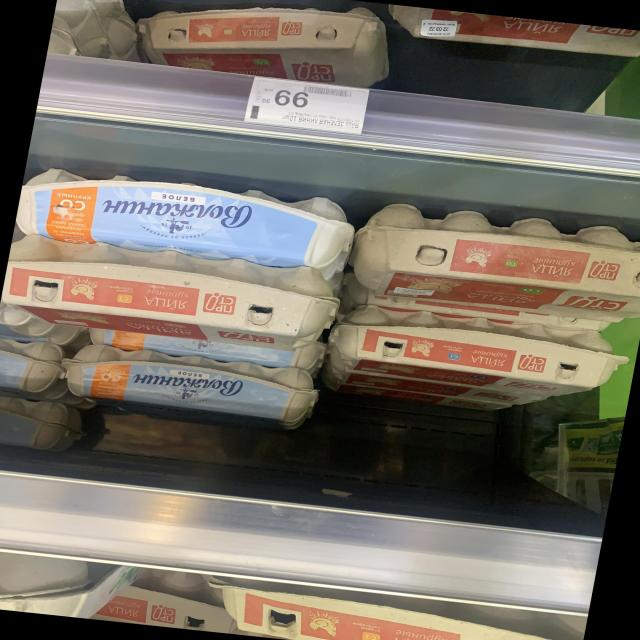organic waste: (0, 236, 346, 356), (344, 198, 640, 326), (323, 300, 634, 406)
